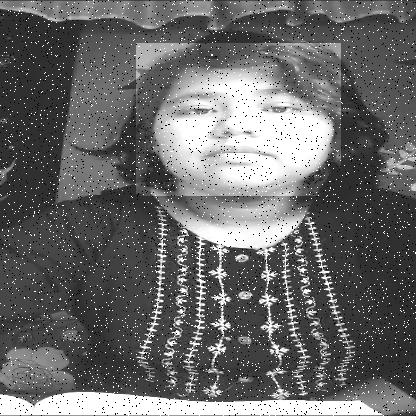Normal: (136, 43, 341, 196)
